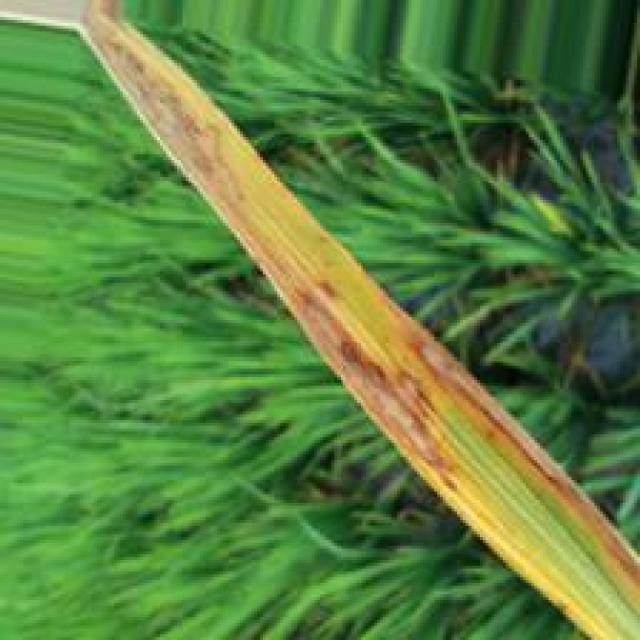Bacterial_Leaf_Blight: (70, 3, 640, 595)
